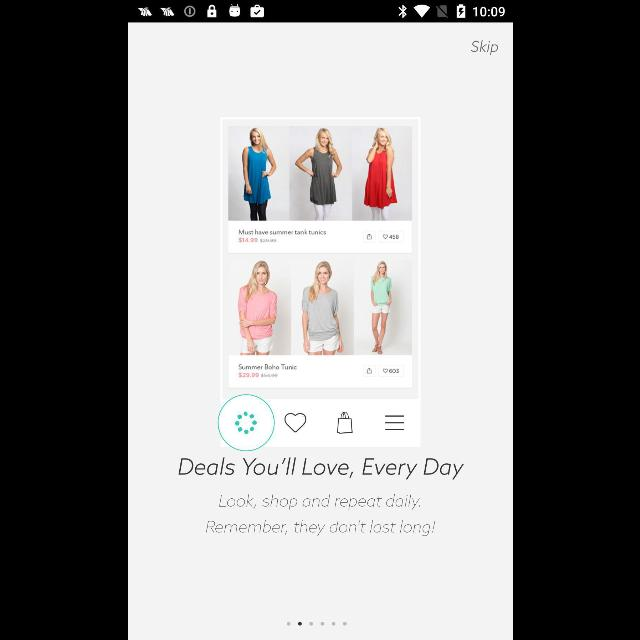image: (217, 118, 421, 452)
pageindicator: (286, 622, 346, 626)
text: (205, 494, 435, 536), (178, 456, 464, 479), (470, 40, 498, 56)
uppertaskbar: (128, 1, 512, 23)
